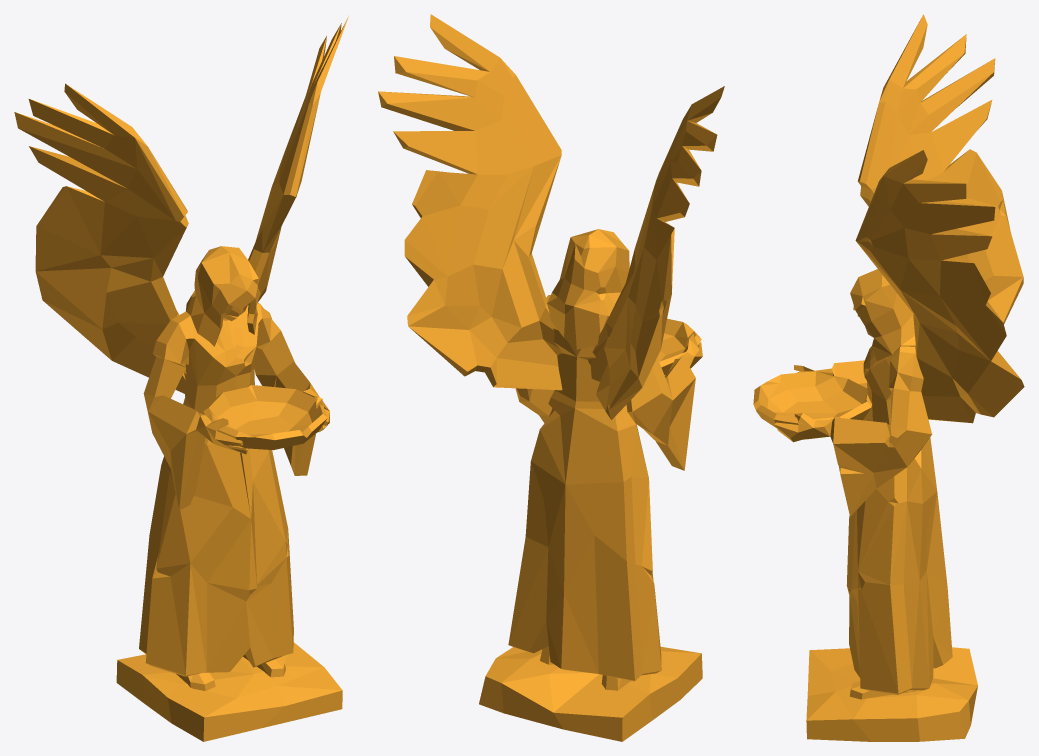
File: SM_Statue_Angel_Standing_Bowl_Fantasy.fbx
The picture shows the model from 3 angles, left to right: view 1: azimuth 30°, elevation 25°; view 2: azimuth 150°, elevation 25°; view 3: azimuth 270°, elevation 25°; orthographic projection. The views are drawn at different scales.
Visible parts, largest first — view 1: SM_Statue_Angel_Standing_Bowl_Fantasy; view 2: SM_Statue_Angel_Standing_Bowl_Fantasy; view 3: SM_Statue_Angel_Standing_Bowl_Fantasy.
Part boxes in pixels (left/top/right/bottom): SM_Statue_Angel_Standing_Bowl_Fantasy: left=14, top=16, right=348, bottom=741; SM_Statue_Angel_Standing_Bowl_Fantasy: left=378, top=14, right=724, bottom=741; SM_Statue_Angel_Standing_Bowl_Fantasy: left=753, top=14, right=1024, bottom=741.
Bounding box in the file's own units: 1.38 × 2.67 × 1.06.
